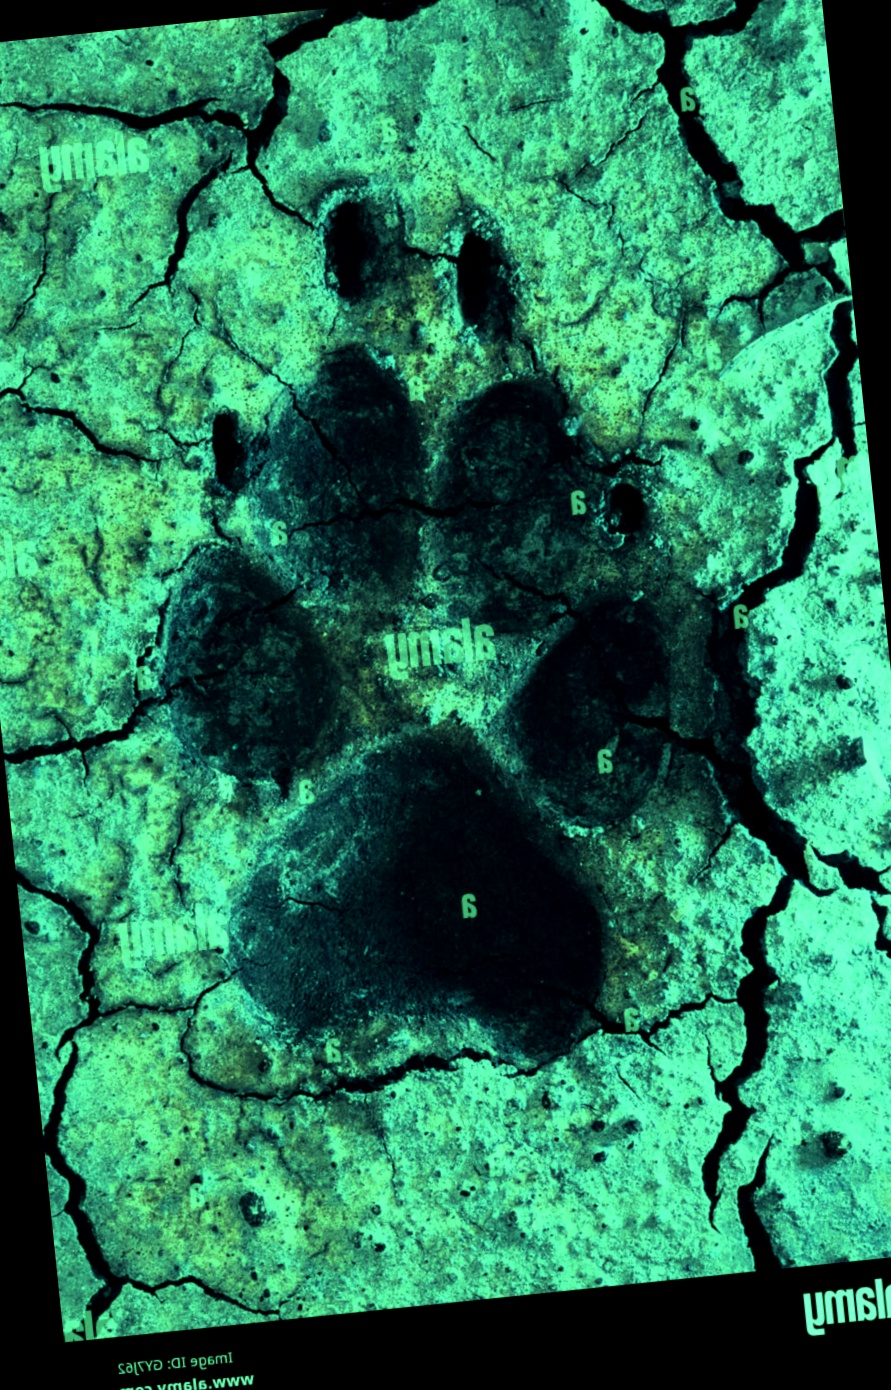loup: (71, 99, 839, 1160)
